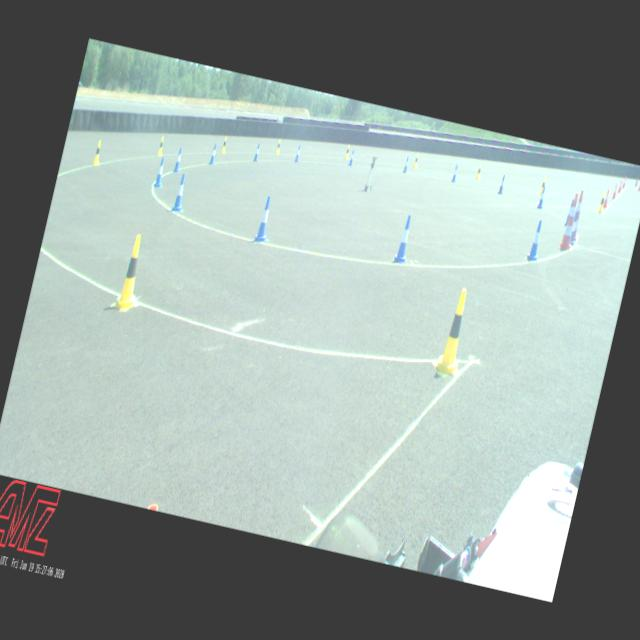blue_cone: (392, 213, 416, 265), (253, 194, 278, 243), (526, 219, 546, 263), (170, 173, 190, 213), (154, 158, 168, 188), (568, 211, 580, 245), (173, 146, 184, 172), (564, 198, 574, 226), (536, 185, 547, 209), (208, 144, 219, 166), (497, 174, 506, 194), (253, 143, 261, 162), (294, 144, 302, 162), (451, 164, 458, 182), (348, 149, 355, 166), (402, 156, 409, 173)
large_orange_cone: (558, 192, 582, 250), (569, 190, 586, 240)
orange_cone: (602, 188, 610, 208), (612, 183, 618, 199), (618, 179, 622, 192), (622, 176, 626, 188), (637, 178, 640, 190)
unknown_cone: (635, 177, 638, 186)
yellow_cone: (435, 286, 475, 376), (110, 232, 150, 312), (92, 139, 103, 165), (157, 136, 166, 156), (598, 191, 606, 212), (538, 177, 546, 194), (412, 153, 420, 168), (475, 163, 482, 180), (344, 144, 351, 160), (221, 137, 228, 153), (275, 139, 282, 154)
